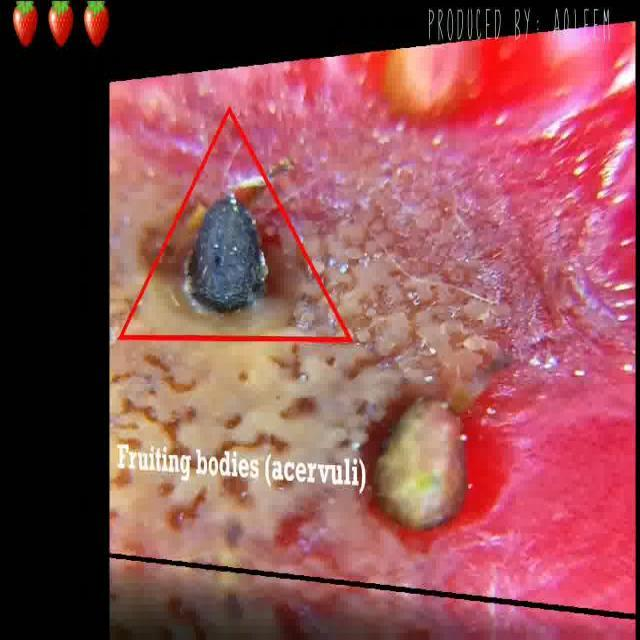Mancha negra Antracnosis: (155, 100, 615, 574)
